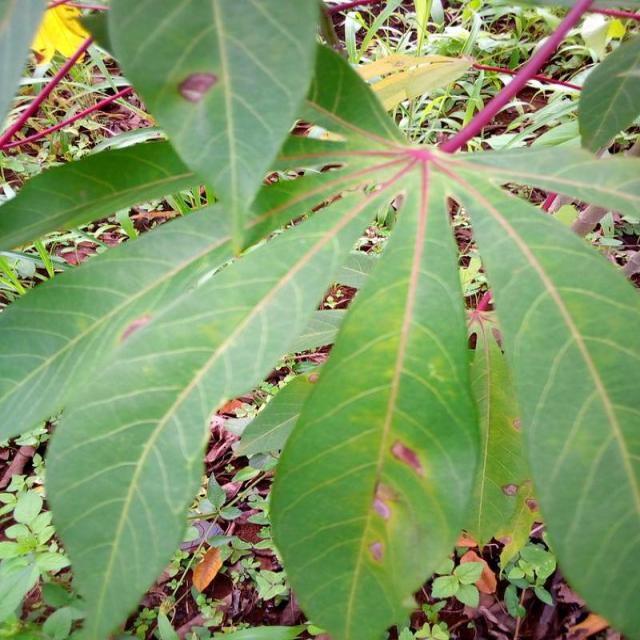cassava leaf: (1, 2, 638, 638), (267, 161, 481, 638), (106, 0, 322, 255)
